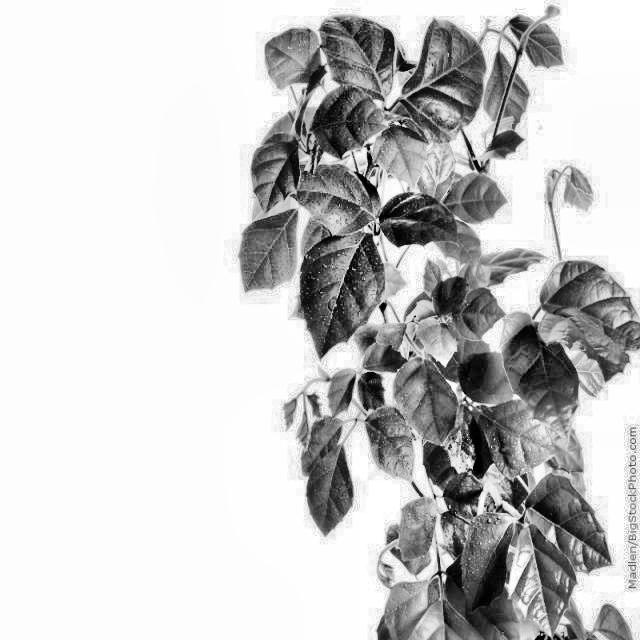plants: (234, 6, 626, 640)
